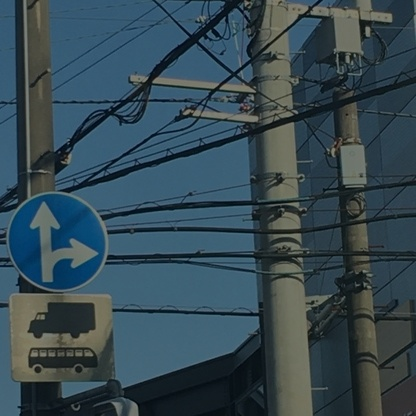Direction_sign: (1, 183, 109, 293)
